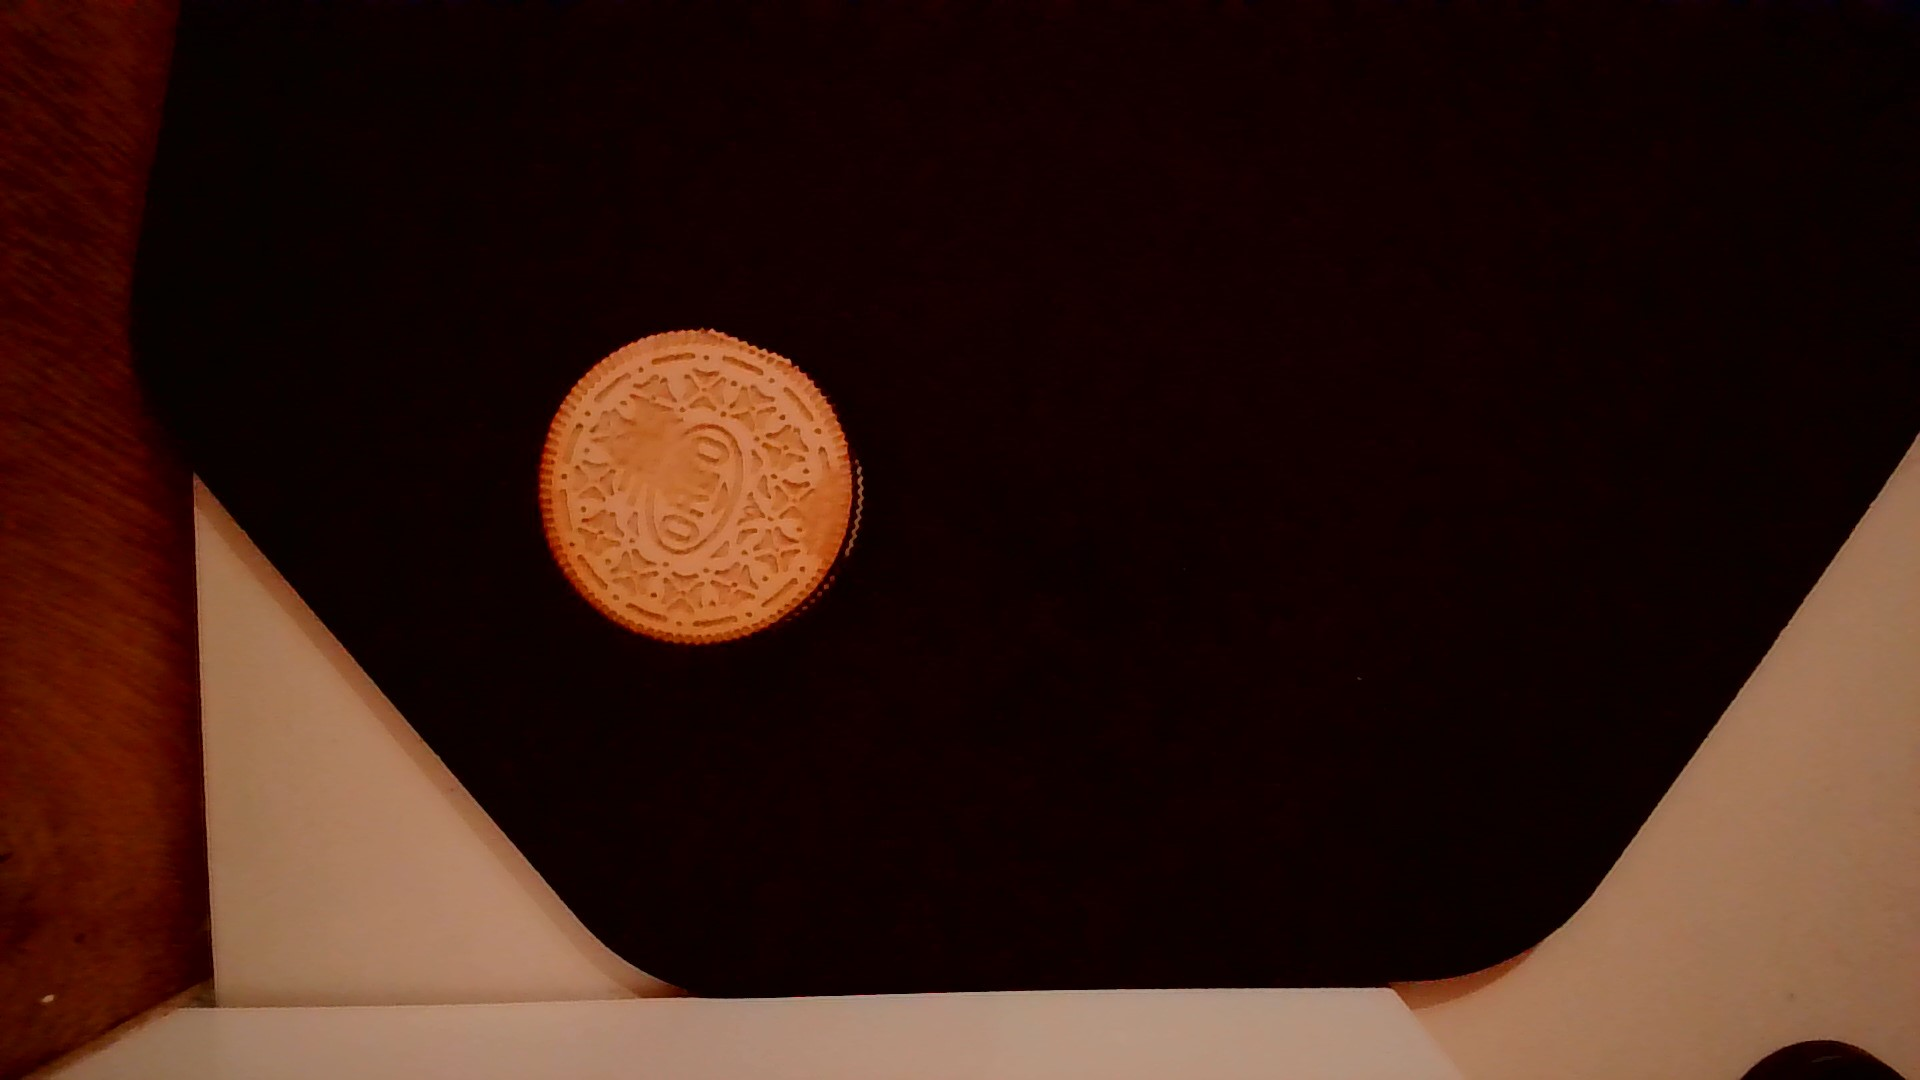Effacé: (615, 400, 696, 493), (804, 454, 855, 556)
Oréo: (526, 320, 872, 655)
